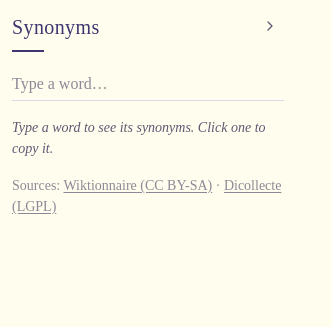
SynonymsPanel › has a stable landmark label and announces a short summary
Check: the element "Synonyms" is shown, box 12,12 -> 284,216
Type "rapides" into the search field. click: (148, 84)
box: 12,68 -> 284,100
Wait 250 ms
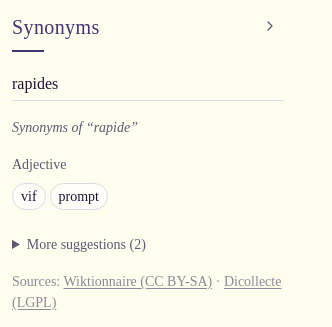
Check: the text "Synonyms of “rapide”" is shown, box 12,120 -> 138,134
